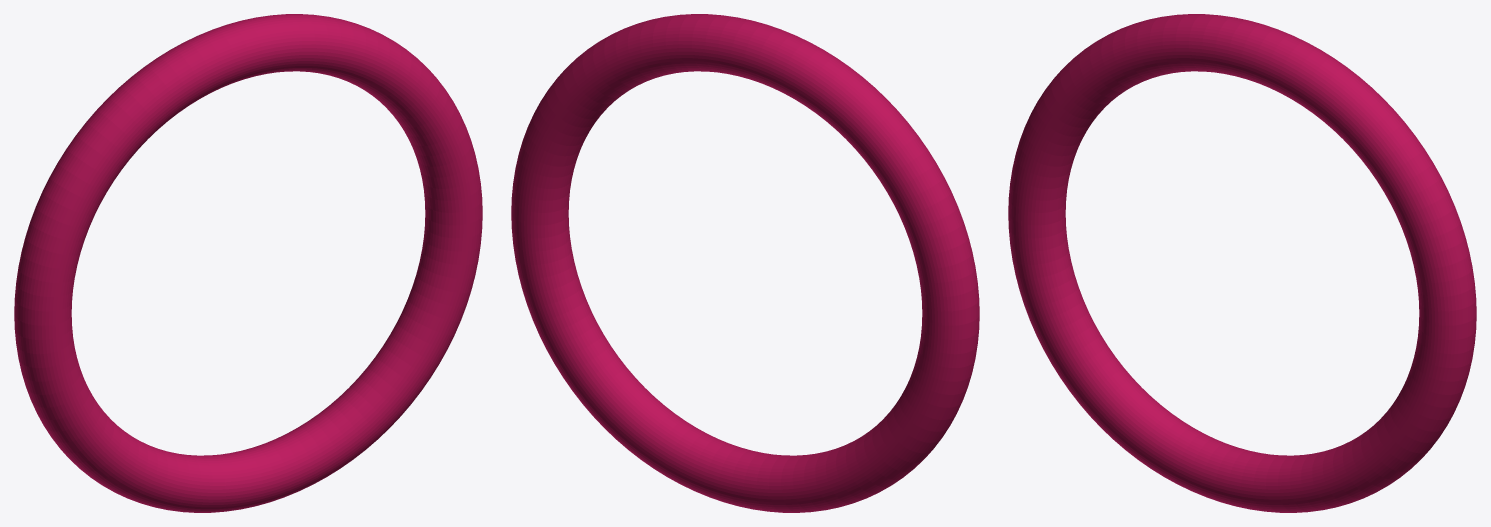
3 views of the same model, side by side, from view 1: azimuth 30°, elevation 25°; view 2: azimuth 150°, elevation 25°; view 3: azimuth 330°, elevation 25° (orthographic).
Parts seen in each view (by area): view 1: world; view 2: world; view 3: world.
Part boxes in pixels (box(x1,y1,x2,y2)): world: box(14, 14, 482, 512); world: box(511, 14, 979, 512); world: box(1008, 14, 1476, 512).
Size of the model in its own units: 28.4 by 28.4 by 3.06.
